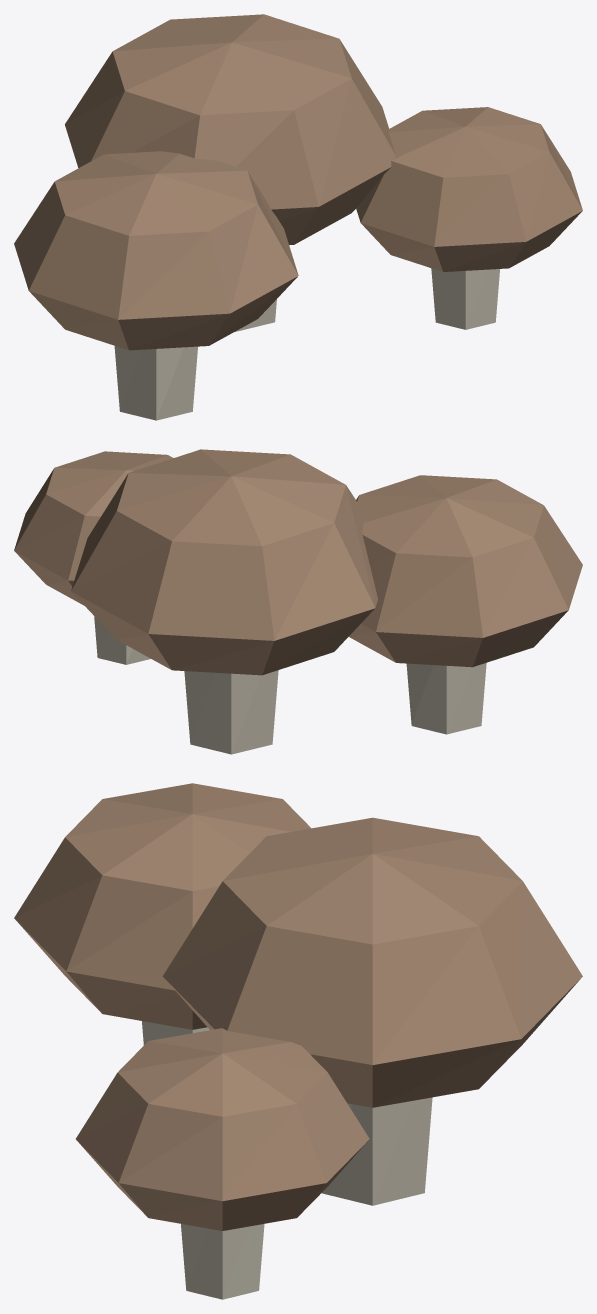
The model's file is mushrooms.glb.
The picture shows the model from 3 angles, top to bottom: view 1: azimuth 30°, elevation 25°; view 2: azimuth 150°, elevation 25°; view 3: azimuth 270°, elevation 25°; orthographic projection. The views are drawn at different scales.
Visible parts, largest first — view 1: mushrooms; view 2: mushrooms; view 3: mushrooms.
Boxes of the visible parts, x1,y1,x2,y2 form: mushrooms: (14, 14, 582, 420); mushrooms: (14, 449, 582, 754); mushrooms: (14, 783, 582, 1299).
Bounding box in the file's own units: 0.2585 × 0.12 × 0.1895.
